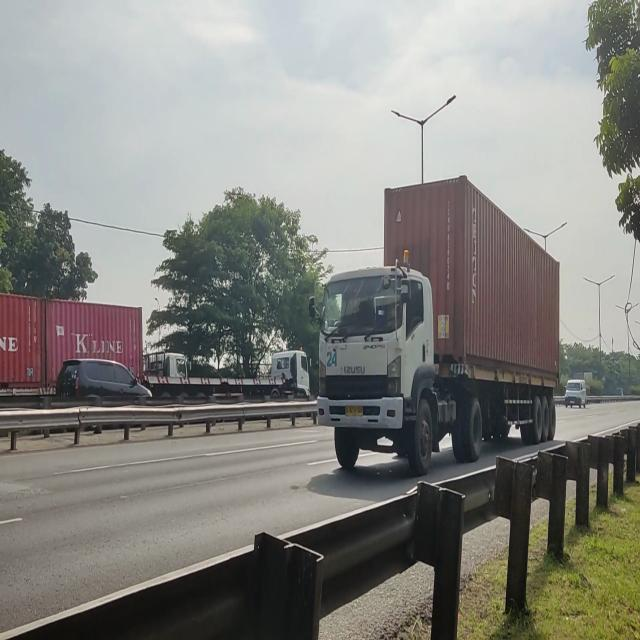Golongan V: (319, 193, 562, 478)
